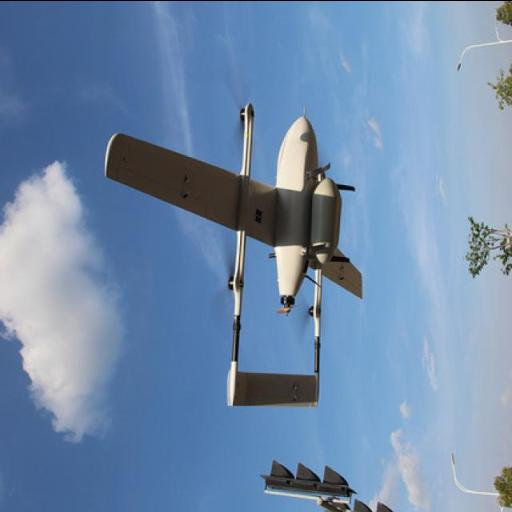uav: (100, 98, 378, 412)
